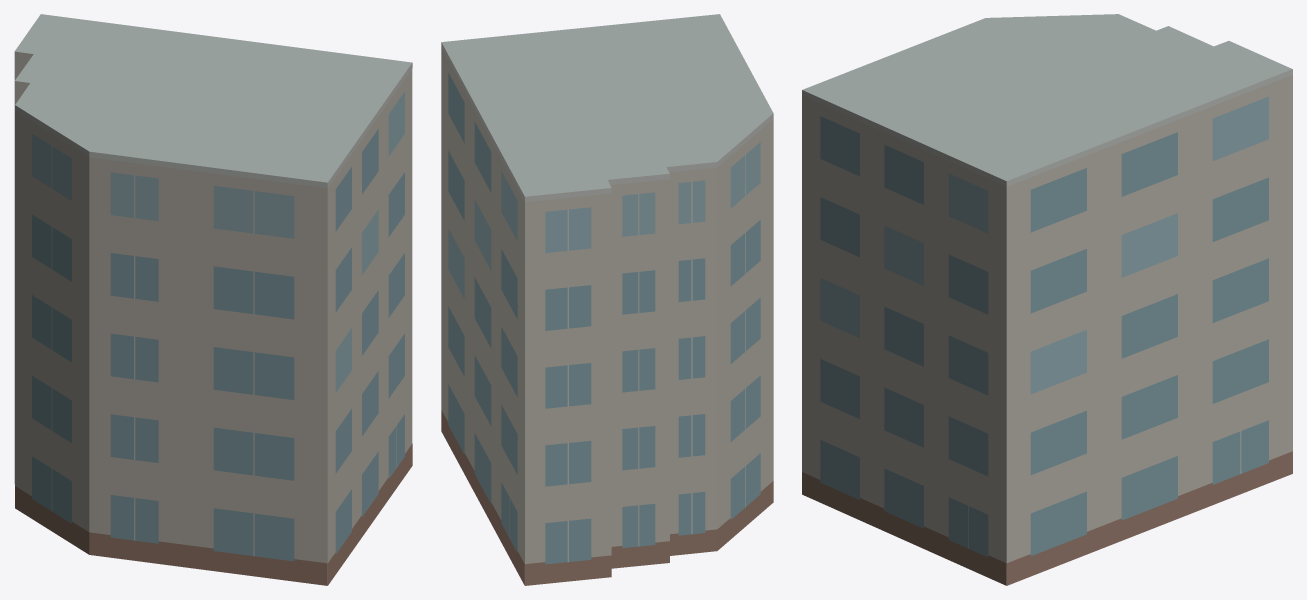
Rendered from survey-upis-32839021.glb.
3 views of the same model, side by side, from view 1: azimuth 30°, elevation 25°; view 2: azimuth 150°, elevation 25°; view 3: azimuth 270°, elevation 25° (orthographic). The views are drawn at different scales.
Visible parts, largest first — view 1: survey-upis-32839021.tmp; view 2: survey-upis-32839021.tmp; view 3: survey-upis-32839021.tmp.
Boxes of the visible parts, left/top/right/bottom form: survey-upis-32839021.tmp: left=14, top=14, right=412, bottom=585; survey-upis-32839021.tmp: left=441, top=14, right=773, bottom=585; survey-upis-32839021.tmp: left=802, top=14, right=1292, bottom=585.
Bounding box in the file's own units: 15.44 × 17.4 × 19.13.
